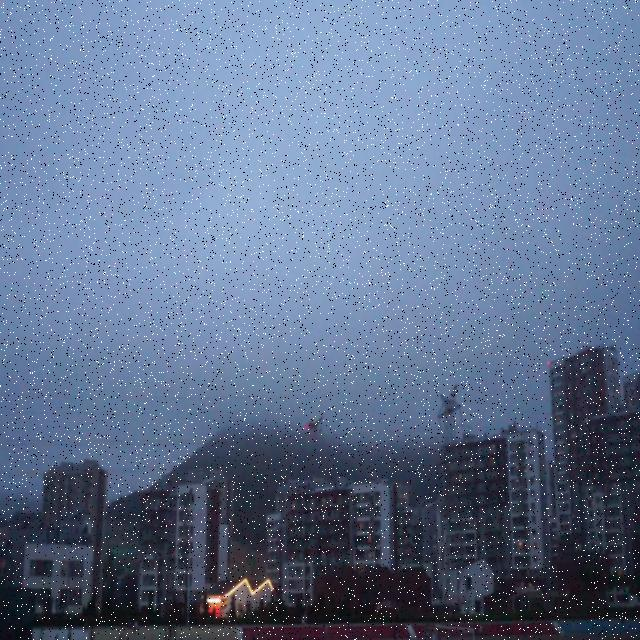UAV: (304, 415, 324, 432)
